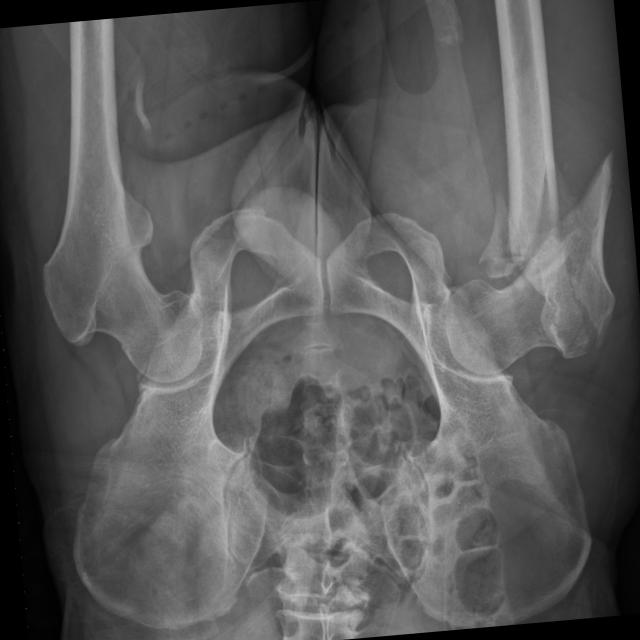normal-left: (42, 17, 203, 381)
right-intertrochanteric: (443, 225, 588, 373), (556, 214, 614, 346)
right-lesser-trochanter: (476, 189, 515, 277)
right-subtrochanteric: (504, 131, 558, 265), (565, 148, 612, 273)
